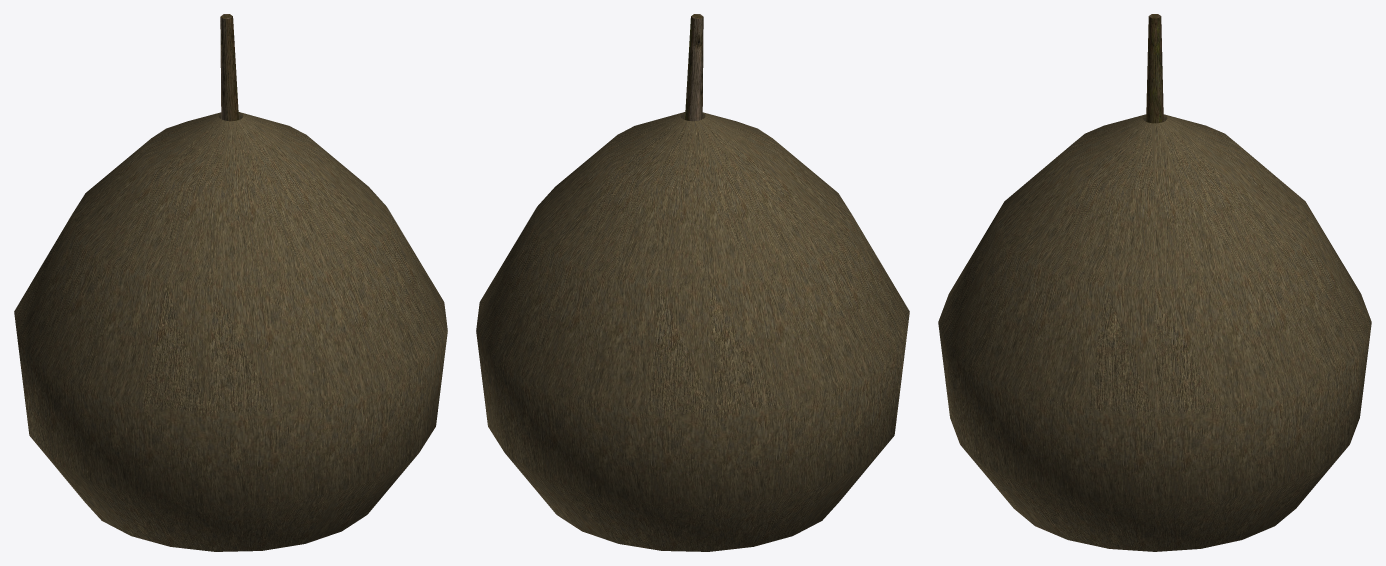
The model's file is haystack_2.glb.
The picture shows the model from 3 angles, left to right: view 1: azimuth 30°, elevation 25°; view 2: azimuth 150°, elevation 25°; view 3: azimuth 270°, elevation 25°; orthographic projection.
Parts seen in each view (by area): view 1: haystack_2; view 2: haystack_2; view 3: haystack_2.
Boxes of the visible parts, <box> form: haystack_2: <box>14,14,447,551</box>; haystack_2: <box>476,14,909,551</box>; haystack_2: <box>938,14,1371,551</box>.
Size of the model in its own units: 2.75 by 3.3 by 2.75.
Materials: 2 (2 with a texture image).
